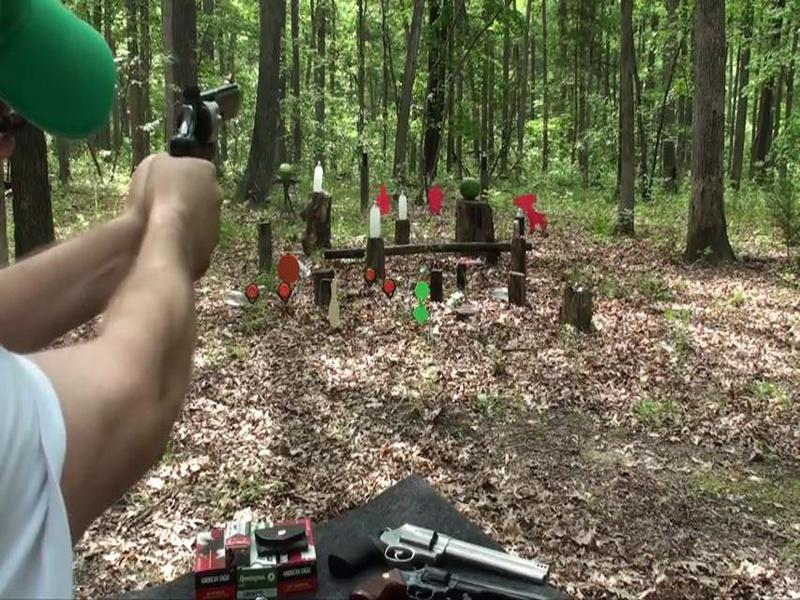Revolver: (162, 63, 255, 198)
